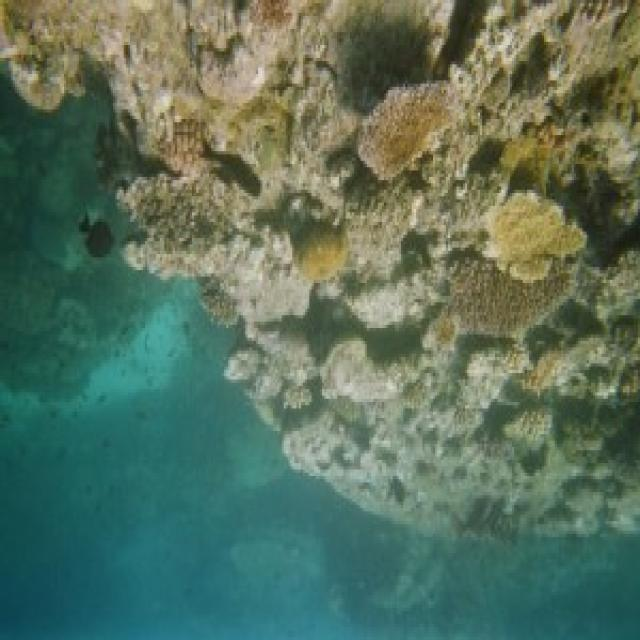Bleached: (1, 1, 639, 547)
Healthy: (452, 259, 572, 331), (486, 205, 591, 273), (556, 404, 638, 491), (374, 107, 457, 172), (129, 194, 227, 243), (295, 232, 352, 281), (160, 123, 203, 169), (469, 507, 521, 545), (610, 314, 640, 364), (201, 288, 238, 325)
